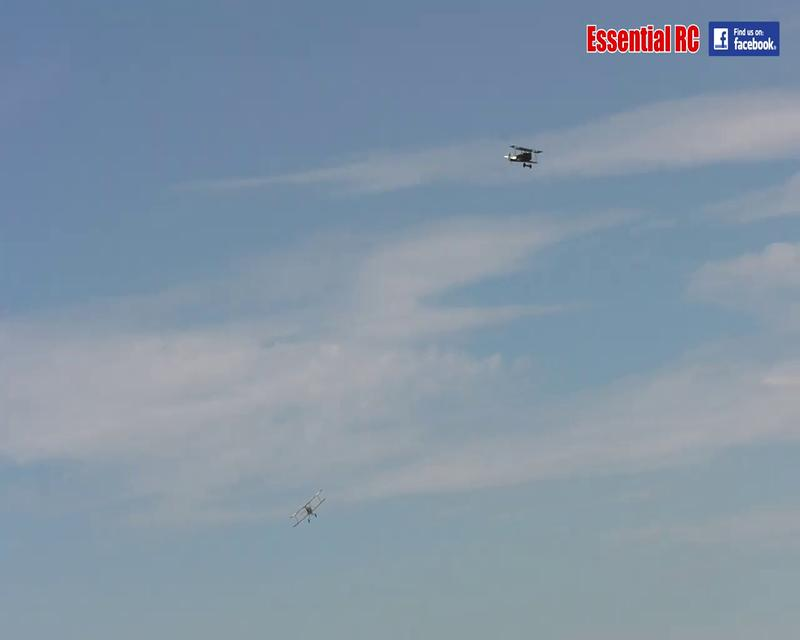UAV: (585, 22, 701, 54), (288, 486, 328, 529), (501, 139, 544, 169)
